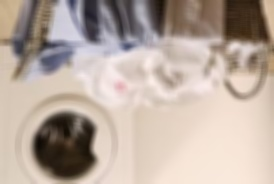lipstick: (112, 79, 129, 96)
